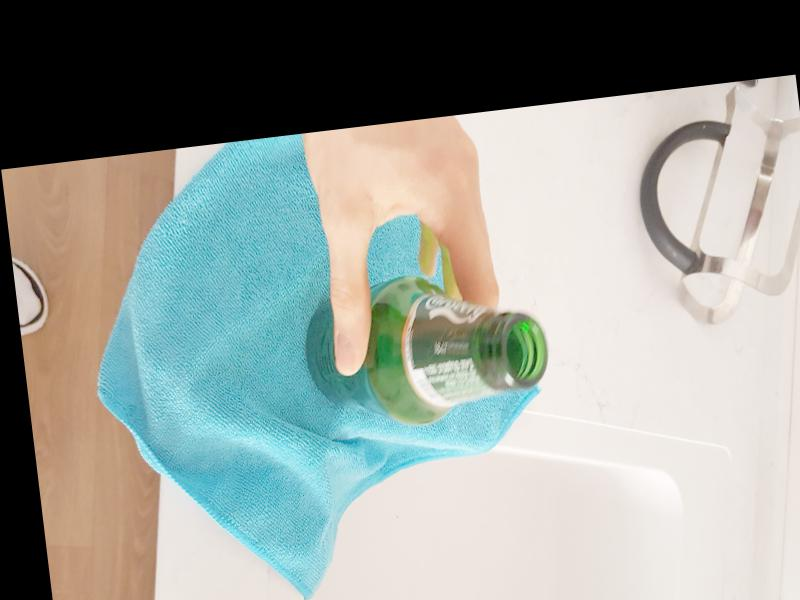Beer: (297, 272, 550, 435)
